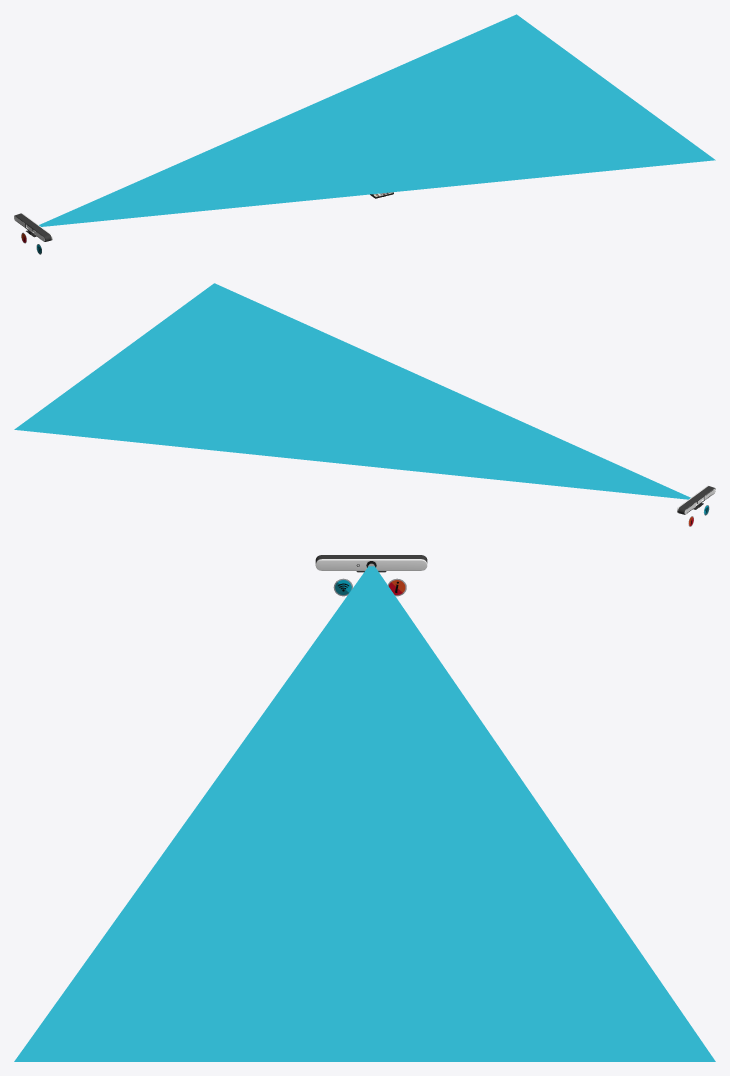
Rendered from MediumProps_LogitechRally_Bar-B.glb.
3 renders of one model, top to bottom at view 1: azimuth 30°, elevation 25°; view 2: azimuth 150°, elevation 25°; view 3: azimuth 270°, elevation 25°, orthographic. The views are drawn at different scales.
Visible parts, largest first — view 1: Range_LogitechRally_Bar, MediumProps_LogitechRally_Bar; view 2: Range_LogitechRally_Bar, MediumProps_LogitechRally_Bar; view 3: Range_LogitechRally_Bar, MediumProps_LogitechRally_Bar.
Part boxes in pixels (x1,y1,x2,y2): Range_LogitechRally_Bar: [39, 14, 715, 226]; MediumProps_LogitechRally_Bar: [14, 213, 52, 241]; Range_LogitechRally_Bar: [14, 283, 690, 499]; MediumProps_LogitechRally_Bar: [677, 485, 715, 514]; Range_LogitechRally_Bar: [14, 566, 715, 1061]; MediumProps_LogitechRally_Bar: [315, 555, 427, 572].
Size of the model in its own units: 7.58 by 0.4173 by 4.47.
12 materials, 4 textured.
